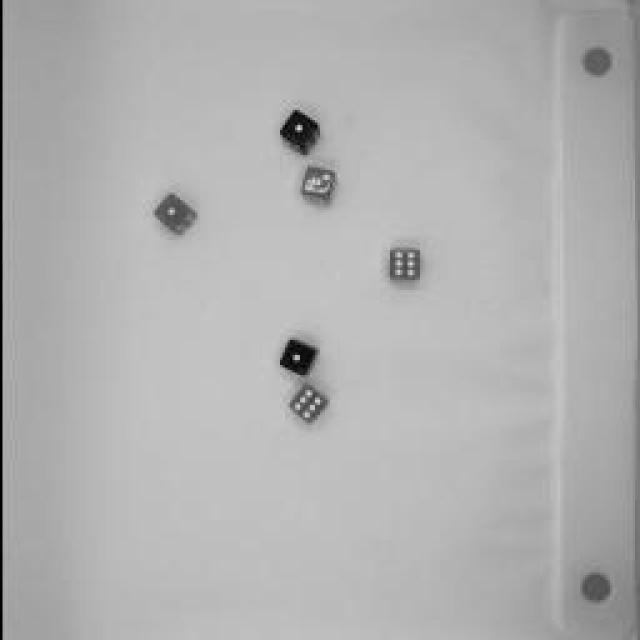dice_1: (148, 190, 198, 238), (274, 110, 321, 155), (275, 338, 317, 378)
dice_3: (295, 162, 335, 206)
dice_6: (285, 380, 327, 425), (382, 245, 418, 285)
